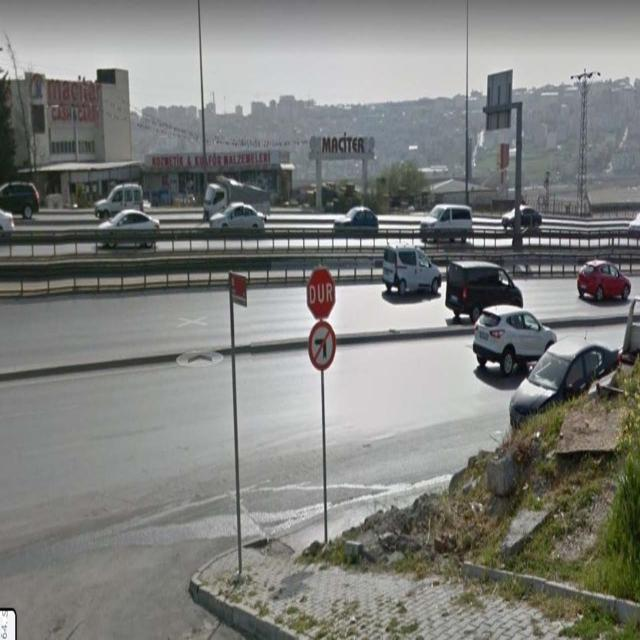dur: (306, 267, 336, 320)
soladonulmez: (308, 322, 336, 372)
